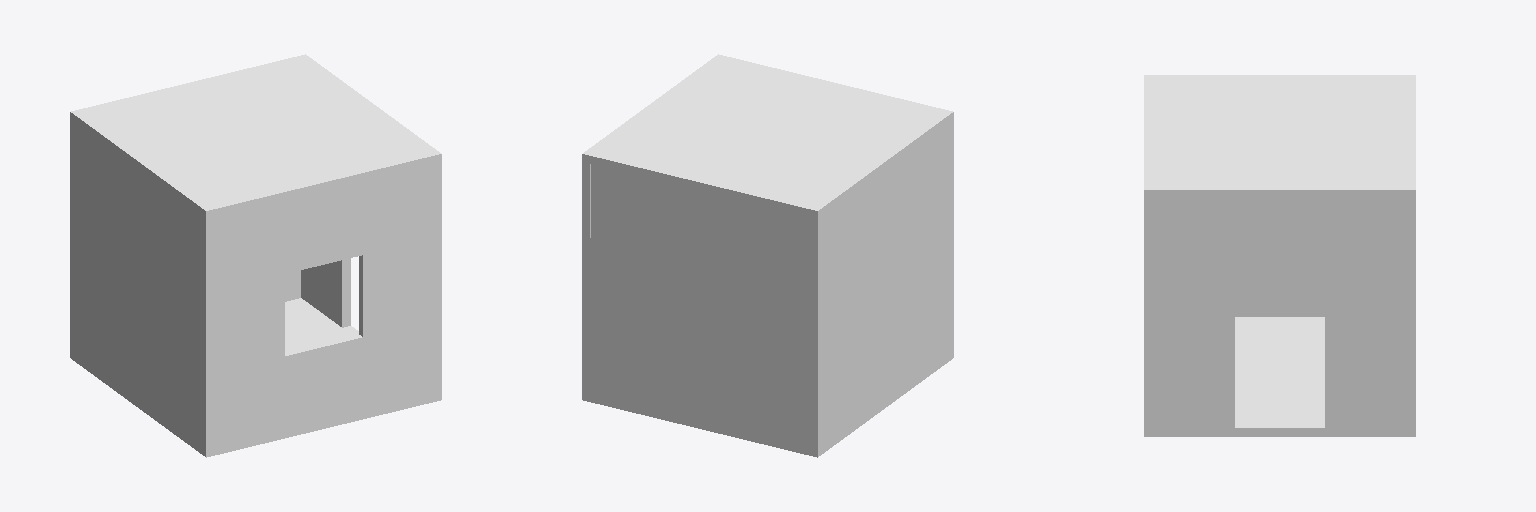
Rendered from DiagramUnit.obj.
The picture shows the model from 3 angles: view 1: azimuth 30°, elevation 25°; view 2: azimuth 150°, elevation 25°; view 3: azimuth 270°, elevation 25°; orthographic projection.
Bounding box in the file's own units: 300 × 300 × 300.